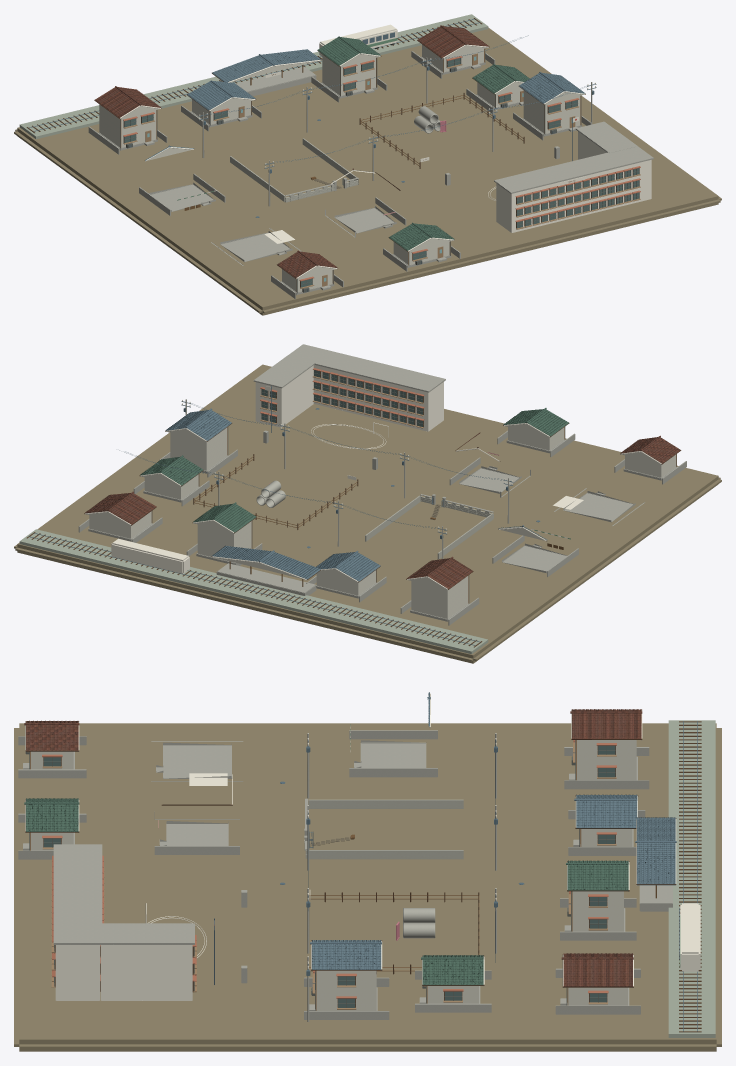
Rendered from world-v11.glb.
3 views of the same model, one above another, from view 1: azimuth 30°, elevation 25°; view 2: azimuth 150°, elevation 25°; view 3: azimuth 270°, elevation 25° (orthographic). The views are drawn at different scales.
Visible parts, largest first — view 1: town cell -1,-1, town cell 0,0, town cell 0,1, town cell 0,-2, town cell 1,1, town cell -1,-2, town cell -1,1, town cell -2,0, town cell 1,0, town cell -2,-1, town cell -2,-2, roof_town cell -1,-2 (+13 smaller); view 2: town cell 0,0, town cell -1,-1, town cell 0,-2, town cell -1,-2, town cell 0,1, town cell 1,1, town cell -2,0, town cell 1,0, town cell -2,-1, town cell 1,-1, town cell -2,-2, roof_town cell -1,-2 (+13 smaller); view 3: town cell 0,0, town cell -1,-1, town cell 1,0, town cell 0,-2, town cell -1,-2, town cell 1,-1, town cell 1,1, town cell -2,-2, roof_town cell 0,-2, town cell 0,1, town cell -2,-1, town cell 1,-2 (+13 smaller).
Boxes of the visible parts, box(x1,y1,x2,y2) form: town cell -1,-1: box(17, 45, 432, 306); town cell 0,0: box(263, 27, 717, 306); town cell 0,1: box(275, 149, 720, 311); town cell 0,-2: box(40, 14, 488, 135); town cell 1,1: box(513, 122, 721, 232); town cell -1,-2: box(15, 15, 466, 139); town cell -1,1: box(262, 201, 695, 315); town cell -2,0: box(23, 139, 301, 315); town cell 1,0: box(511, 82, 721, 199); town cell -2,-1: box(14, 128, 253, 301); town cell -2,-2: box(15, 104, 167, 154); roof_town cell -1,-2: box(187, 54, 316, 111); town cell 0,0: box(18, 364, 718, 543); town cell -1,-1: box(17, 476, 717, 655); town cell 0,-2: box(15, 520, 483, 652); town cell -1,-2: box(26, 542, 487, 663); town cell 0,1: box(299, 358, 445, 435); town cell 1,1: box(254, 344, 443, 426); town cell -2,0: box(480, 476, 721, 658); town cell 1,0: box(168, 363, 314, 476); town cell -2,-1: box(473, 486, 708, 663); town cell 1,-1: box(14, 429, 253, 547); town cell -2,-2: box(375, 575, 488, 661); roof_town cell -1,-2: box(217, 550, 380, 582); town cell 0,0: box(19, 723, 715, 1039); town cell -1,-1: box(20, 723, 716, 1039); town cell 1,0: box(19, 918, 697, 1051); town cell 0,-2: box(560, 721, 721, 1044); town cell -1,-2: box(568, 720, 721, 1033); town cell 1,-1: box(39, 911, 716, 1051); town cell 1,1: box(14, 845, 193, 1046); town cell -2,-2: box(564, 721, 701, 790); roof_town cell 0,-2: box(566, 841, 676, 891); town cell 0,1: box(14, 738, 146, 1044); town cell -2,-1: box(349, 730, 437, 777); town cell 1,-2: box(555, 945, 721, 1046).
Bounding box in the file's own units: 89 × 10.27 × 83.
Materials: 33 (17 with a texture image).
